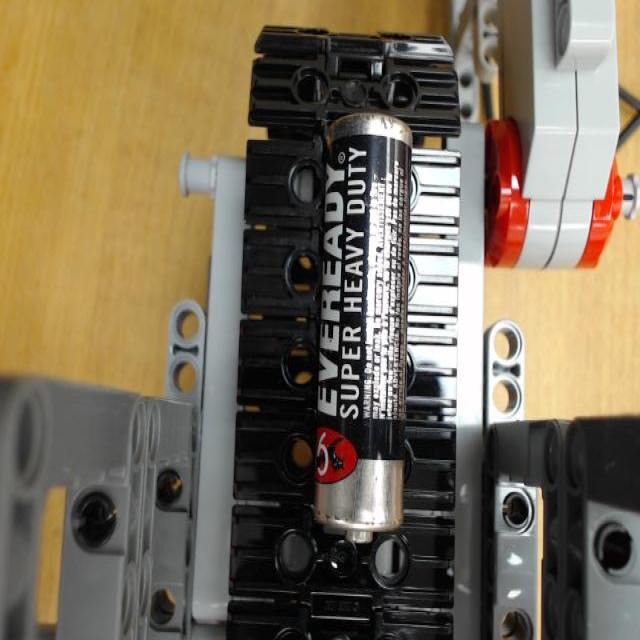AA: (304, 109, 413, 544)
